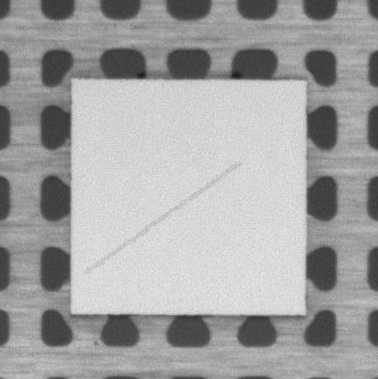DIE_CRACK: (85, 163, 239, 274)
